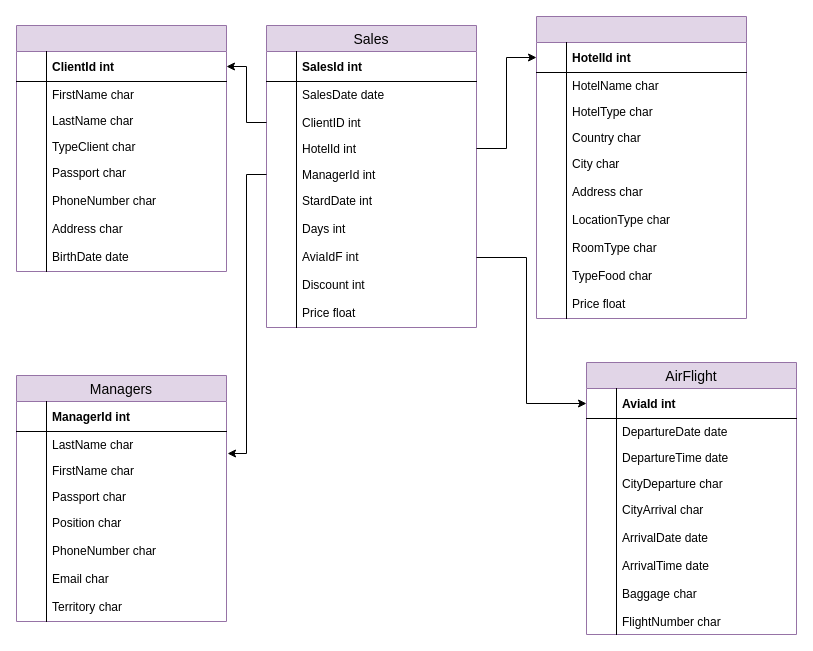
Some shapes in this 813 by 651 pixel diagram are drawn without their labels. The box of each missing label's shape, as (x1, y1, x2, y2) in pixels:
Clients: (16, 24, 226, 272)
Hotels: (536, 16, 746, 318)
